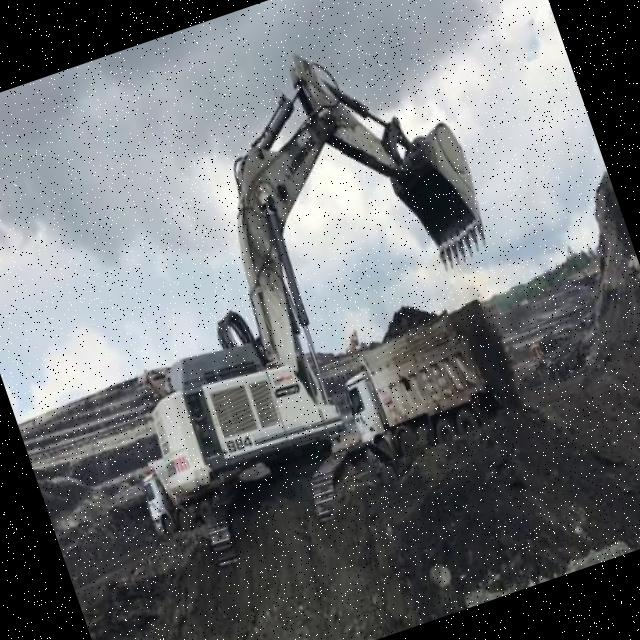Dump Truck: (334, 304, 532, 483)
Excavator: (44, 7, 576, 600)
